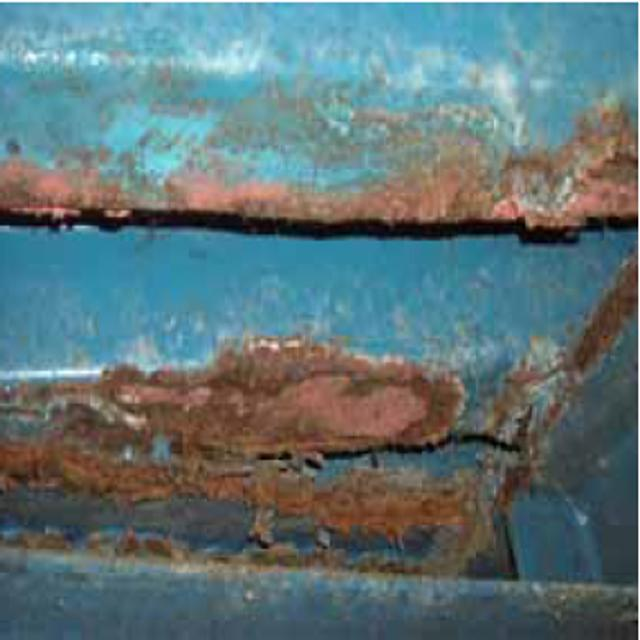corrosion: (13, 114, 628, 582)
